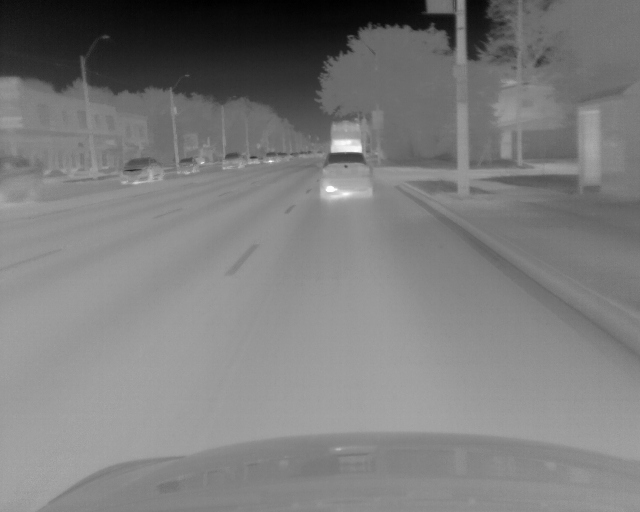car: (320, 151, 372, 200), (118, 157, 165, 185), (330, 120, 369, 153), (175, 157, 200, 177), (221, 152, 245, 170), (263, 152, 277, 164), (278, 152, 289, 163), (247, 155, 259, 165), (289, 152, 299, 160), (299, 152, 308, 159)
